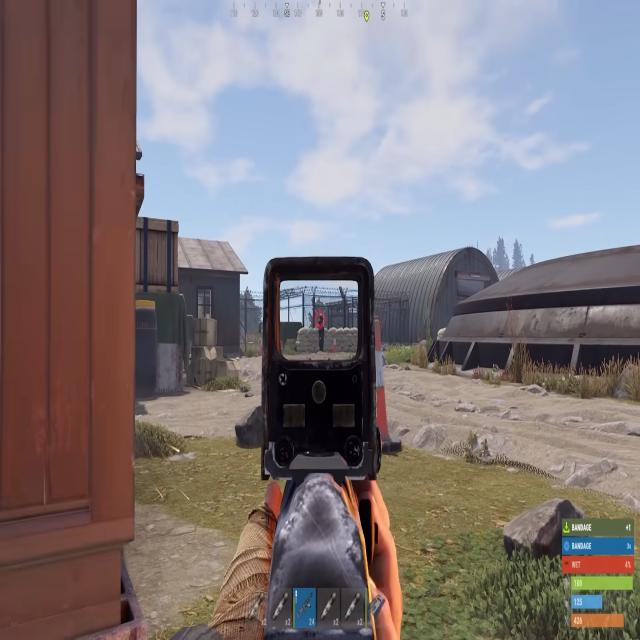Player: (316, 312, 326, 355)
